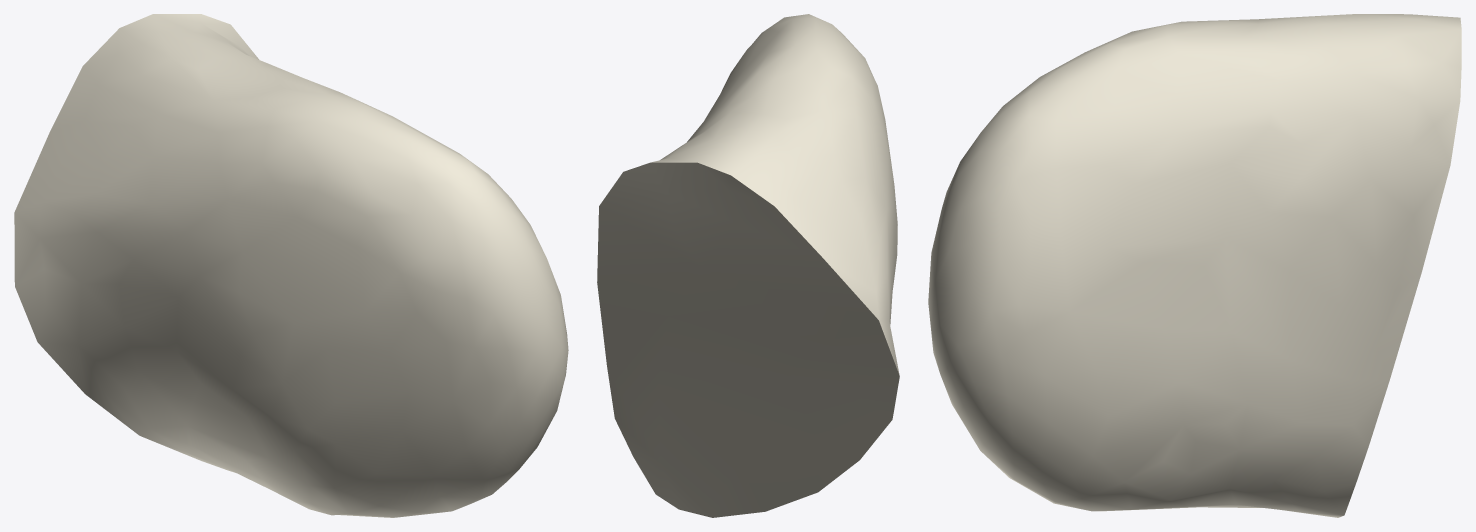
File: fma39990_mm1885m.glb
The picture shows the model from 3 angles, left to right: view 1: azimuth 30°, elevation 25°; view 2: azimuth 150°, elevation 25°; view 3: azimuth 270°, elevation 25°; orthographic projection. The views are drawn at different scales.
Visible parts, largest first — view 1: FMA39990_MM1885M; view 2: FMA39990_MM1885M; view 3: FMA39990_MM1885M.
Boxes of the visible parts, left/top/right/bottom form: FMA39990_MM1885M: left=14, top=14, right=568, bottom=517; FMA39990_MM1885M: left=597, top=14, right=899, bottom=517; FMA39990_MM1885M: left=928, top=14, right=1461, bottom=517.
Size of the model in its own units: 0.00624 by 0.0071 by 0.00741.
